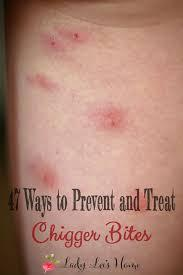Chiggers: (24, 156, 57, 189), (25, 73, 59, 92), (98, 110, 126, 132), (48, 36, 59, 50), (71, 30, 85, 40)
